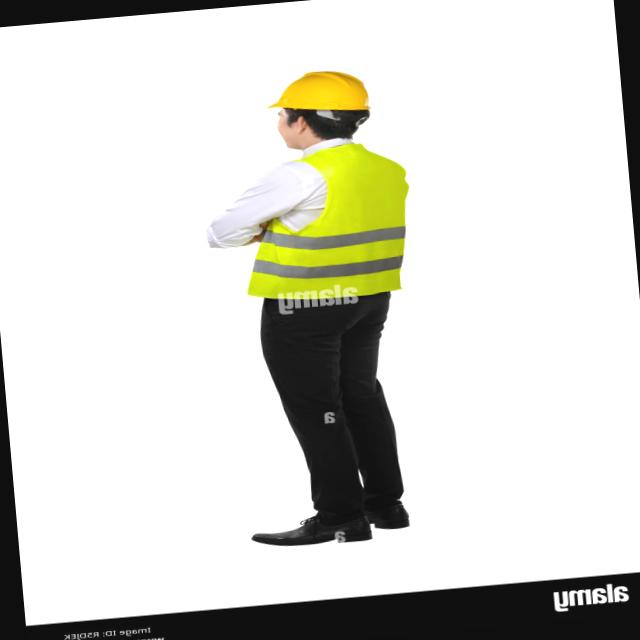helmet: (252, 55, 382, 144)
vest: (224, 125, 436, 308)
